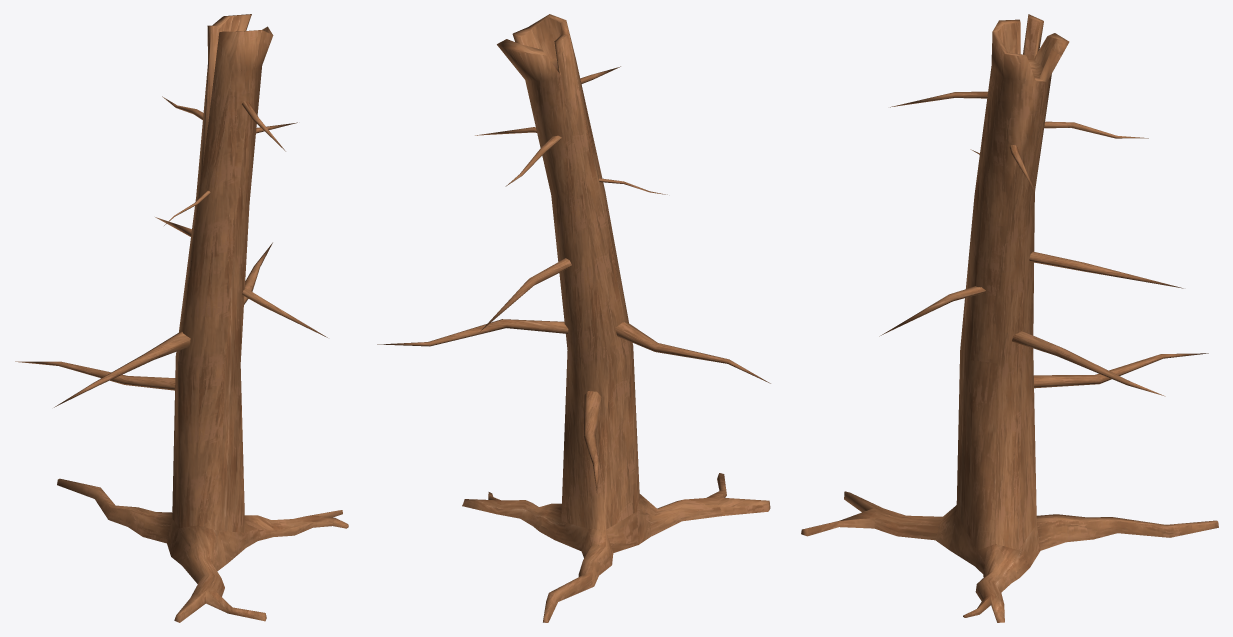
File: PineTree_Broken.fbx
3 views of the same model, side by side, from view 1: azimuth 30°, elevation 25°; view 2: azimuth 150°, elevation 25°; view 3: azimuth 270°, elevation 25° (orthographic). The views are drawn at different scales.
Visible parts, largest first — view 1: PineTree_Broken; view 2: PineTree_Broken; view 3: PineTree_Broken.
Boxes of the visible parts, bbox=[...] form: PineTree_Broken: bbox=[15, 14, 348, 622]; PineTree_Broken: bbox=[377, 14, 770, 622]; PineTree_Broken: bbox=[801, 14, 1218, 622].
Bounding box in the file's own units: 3.71 × 5.84 × 4.03.
